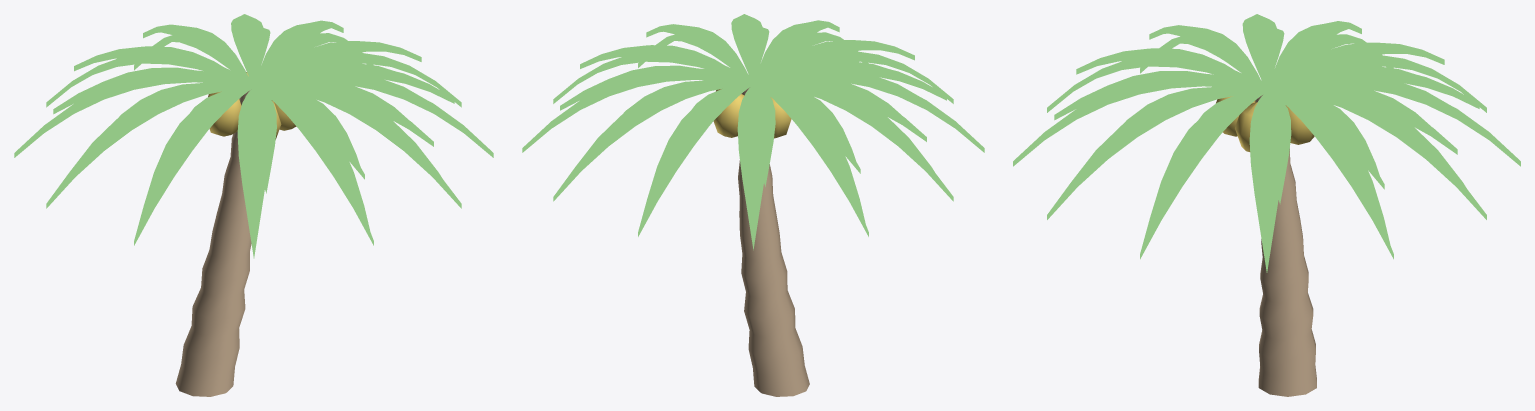
The model's file is env_date_palm_high.glb.
3 renders of one model, left to right at view 1: azimuth 30°, elevation 25°; view 2: azimuth 150°, elevation 25°; view 3: azimuth 270°, elevation 25°, orthographic. The views are drawn at different scales.
Size of the model in its own units: 12.4 by 9.01 by 12.4.
